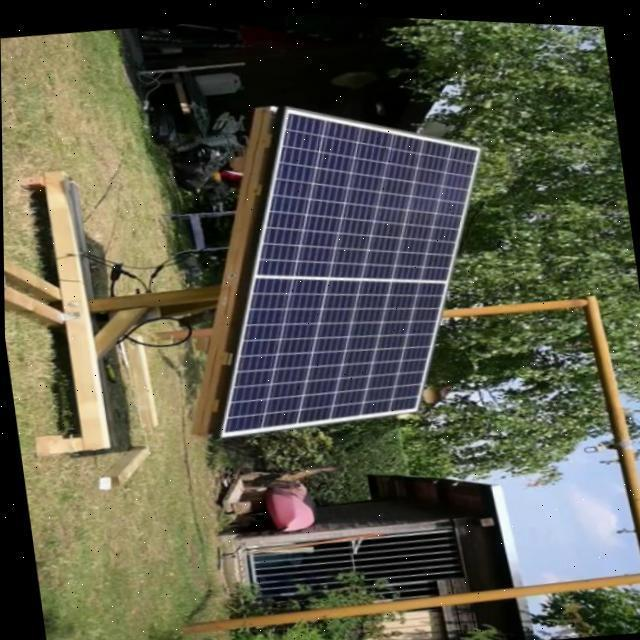Normal Solar Panel: (176, 78, 514, 444)
